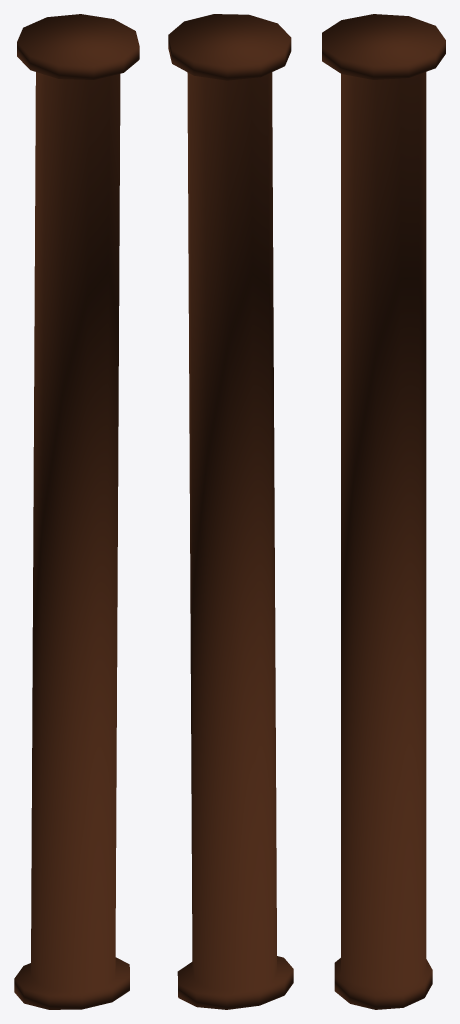
File: WoodenPilaster.fbx
The picture shows the model from 3 angles, left to right: view 1: azimuth 30°, elevation 25°; view 2: azimuth 210°, elevation 25°; view 3: azimuth 270°, elevation 25°; orthographic projection.
Parts seen in each view (by area): view 1: WoodenPilaster; view 2: WoodenPilaster; view 3: WoodenPilaster.
Boxes of the visible parts, x1,y1,x2,y2 form: WoodenPilaster: (14, 14, 139, 1009); WoodenPilaster: (168, 14, 293, 1009); WoodenPilaster: (322, 14, 445, 1009).
Bounding box in the file's own units: 52.13 × 426 × 50.41.
